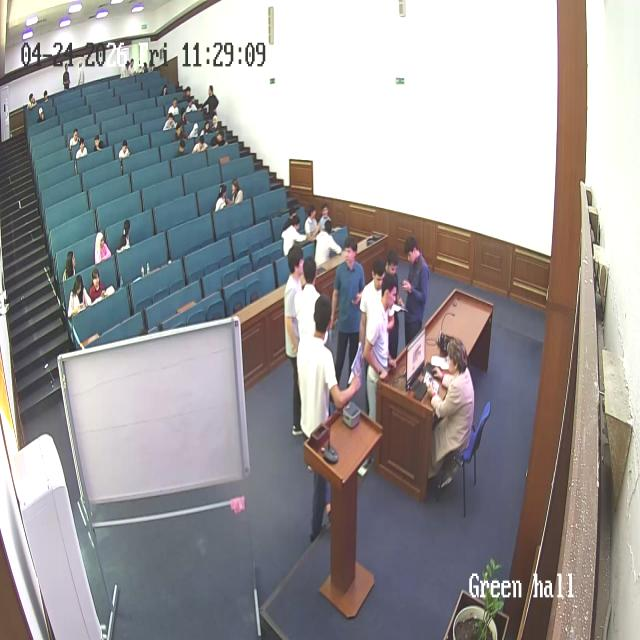person: (294, 296, 358, 541), (360, 273, 402, 470), (426, 339, 476, 488), (330, 236, 366, 394), (357, 256, 391, 415), (283, 242, 307, 434), (400, 235, 430, 348), (293, 256, 327, 348), (378, 248, 403, 363), (314, 216, 344, 269), (281, 217, 309, 260), (67, 273, 92, 321), (87, 267, 113, 305), (94, 229, 112, 264), (304, 204, 322, 238), (116, 220, 132, 253), (318, 203, 334, 232), (205, 85, 219, 118), (64, 250, 78, 282), (171, 142, 193, 162), (214, 182, 228, 212), (163, 105, 178, 132), (229, 177, 243, 204), (188, 114, 202, 140), (210, 114, 224, 140), (192, 132, 208, 154), (68, 127, 82, 151), (75, 136, 87, 161), (92, 133, 107, 153), (184, 95, 198, 115), (62, 62, 72, 90), (118, 139, 130, 161), (76, 59, 86, 85), (25, 92, 38, 112), (174, 121, 185, 144), (212, 131, 226, 149), (168, 97, 180, 117), (124, 58, 135, 78), (178, 84, 190, 102), (140, 55, 150, 75), (147, 52, 157, 72), (36, 106, 46, 124)
